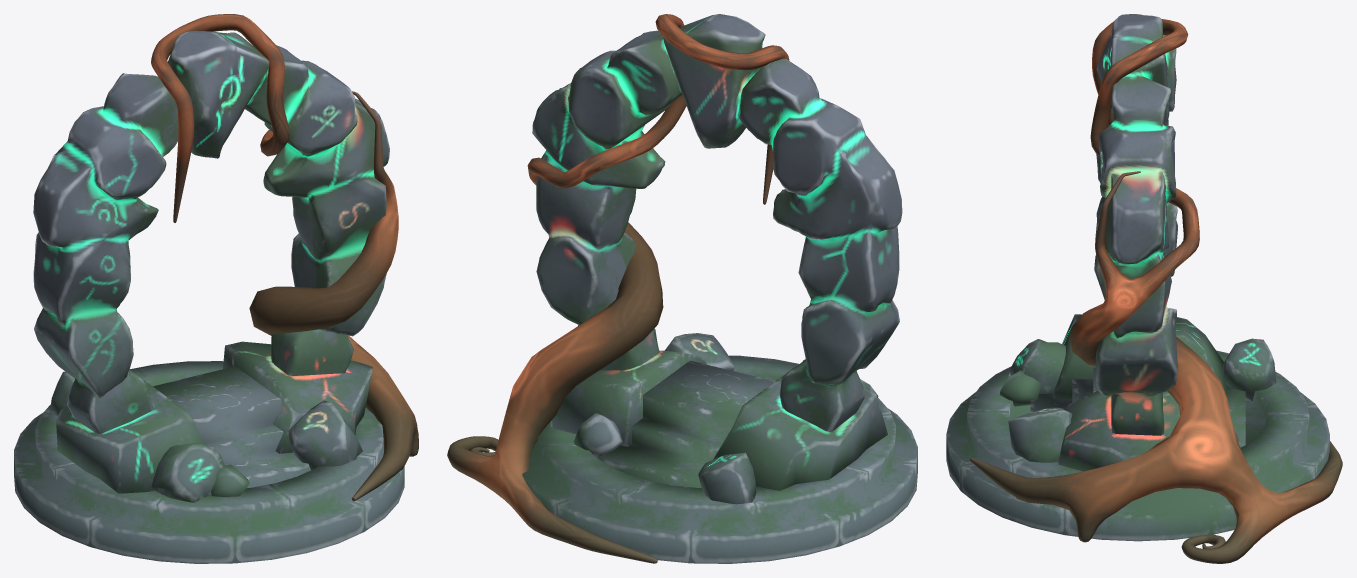
File: ancient_portal.glb
3 views of the same model, side by side, from view 1: azimuth 30°, elevation 25°; view 2: azimuth 150°, elevation 25°; view 3: azimuth 270°, elevation 25° (orthographic). The views are drawn at different scales.
Visible parts, largest first — view 1: Arc, platform, tree, PreArc, Stupeni, LOW; view 2: Arc, platform, tree, PreArc, Stupeni, LOW; view 3: tree, Arc, platform, LOW, PreArc, Stupeni.
Part boxes in pixels (x1,y1,x2,y2): Arc: (33, 31, 389, 433); platform: (14, 361, 404, 563); tree: (151, 14, 418, 501); PreArc: (56, 341, 372, 493); Stupeni: (153, 366, 310, 487); LOW: (49, 368, 362, 502); Arc: (532, 14, 902, 432); platform: (522, 355, 917, 563); tree: (447, 14, 789, 563); PreArc: (550, 350, 887, 490); Stupeni: (599, 360, 774, 487); LOW: (573, 333, 878, 504); tree: (970, 19, 1342, 563); Arc: (1094, 14, 1178, 435); platform: (946, 350, 1329, 541); LOW: (999, 338, 1276, 462); PreArc: (1052, 314, 1226, 471); Stupeni: (1030, 365, 1245, 447).
Bounding box in the file's own units: 432 × 480 × 389.
Materials: 3 (3 with a texture image).
